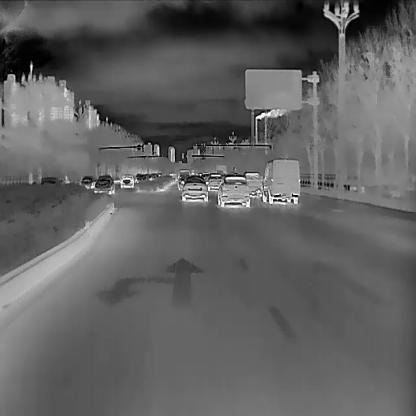car: (263, 157, 299, 205), (217, 174, 249, 207), (181, 176, 207, 203), (243, 171, 262, 198), (94, 173, 114, 195), (206, 172, 223, 190), (118, 174, 134, 188), (81, 177, 94, 188)
